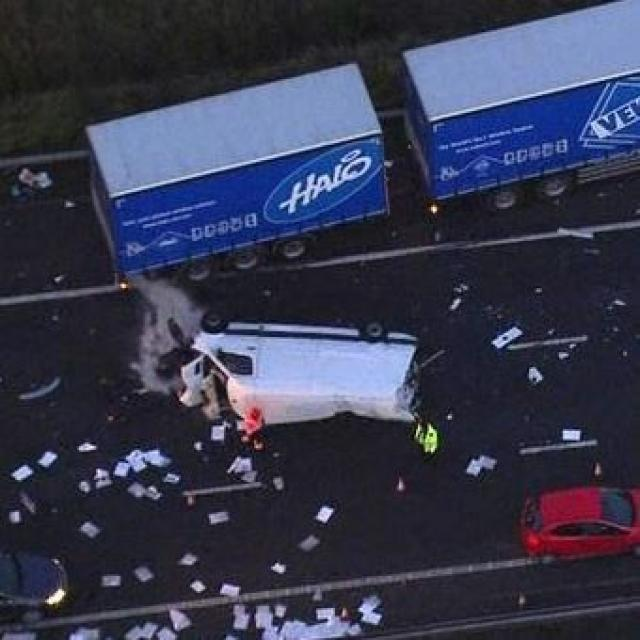traffic_incident: (177, 307, 431, 427)
